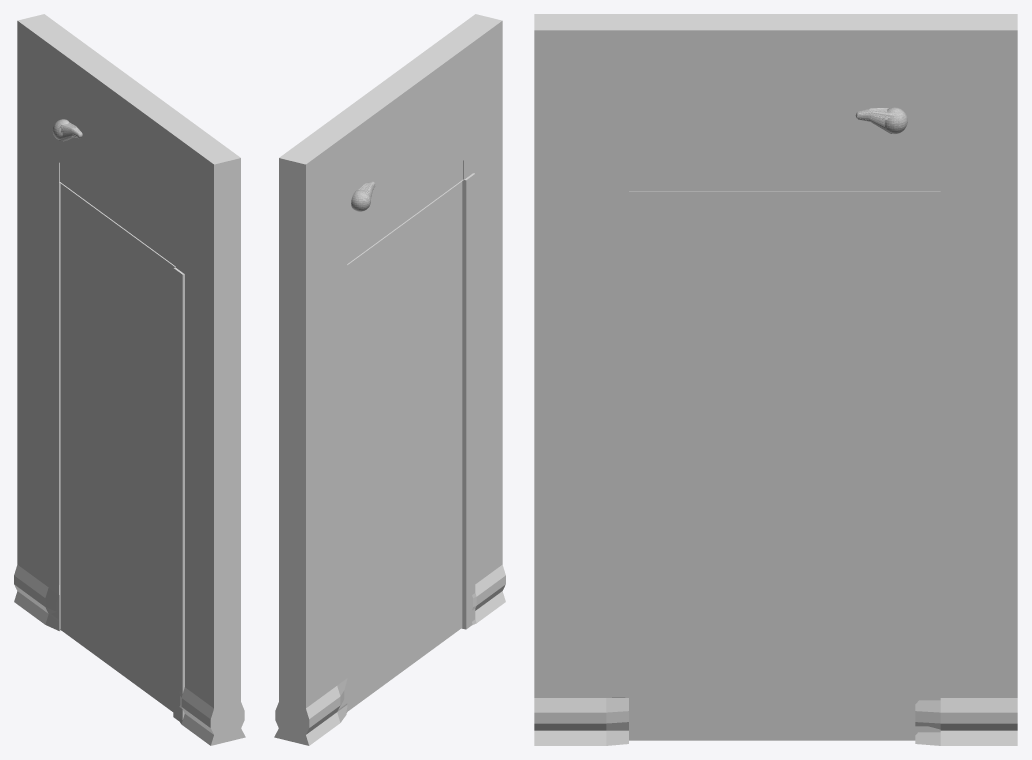
Rendered from WallWithDoor.fbx.
3 renders of one model, left to right at view 1: azimuth 30°, elevation 25°; view 2: azimuth 150°, elevation 25°; view 3: azimuth 270°, elevation 25°, orthographic. The views are drawn at different scales.
Visible parts, largest first — view 1: wall with door frame, door, handle2; view 2: wall with door frame, door, handle2; view 3: wall with door frame, door, handle.
Part boxes in pixels (left/top/right/bottom): wall with door frame: left=14, top=14, right=245, bottom=745; door: left=60, top=183, right=175, bottom=711; handle2: left=52, top=119, right=82, bottom=141; wall with door frame: left=274, top=14, right=505, bottom=745; door: left=347, top=181, right=462, bottom=711; handle2: left=351, top=181, right=375, bottom=211; wall with door frame: left=534, top=14, right=1017, bottom=745; door: left=625, top=191, right=915, bottom=740; handle: left=855, top=107, right=907, bottom=134.
Bounding box in the file's own units: 0.2963 × 3.05 × 1.87.
